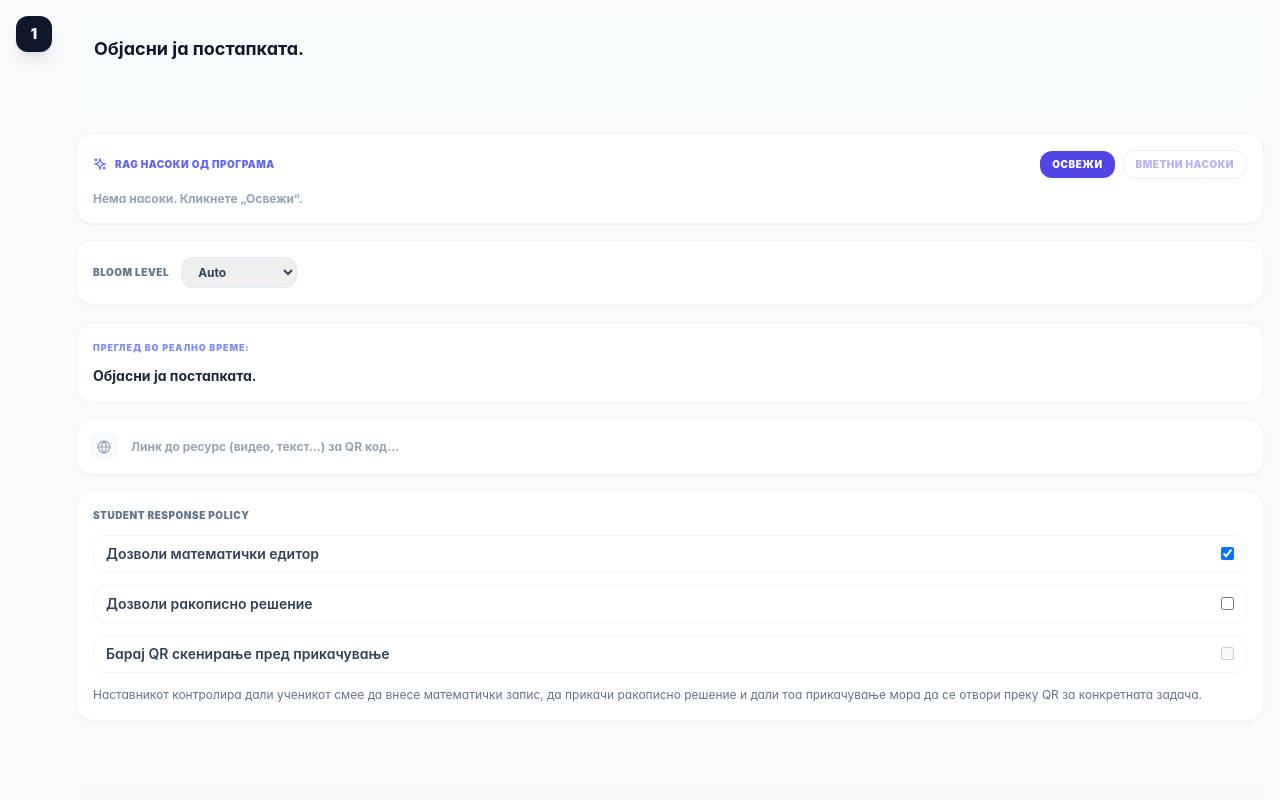
Test case: Question RAG editor flow › allows teacher to configure student response policy
Step 1. Click the checkbox labelled "Дозволи ракописно решение" → {"x": 1228, "y": 604}, box [1221,597,1234,610]
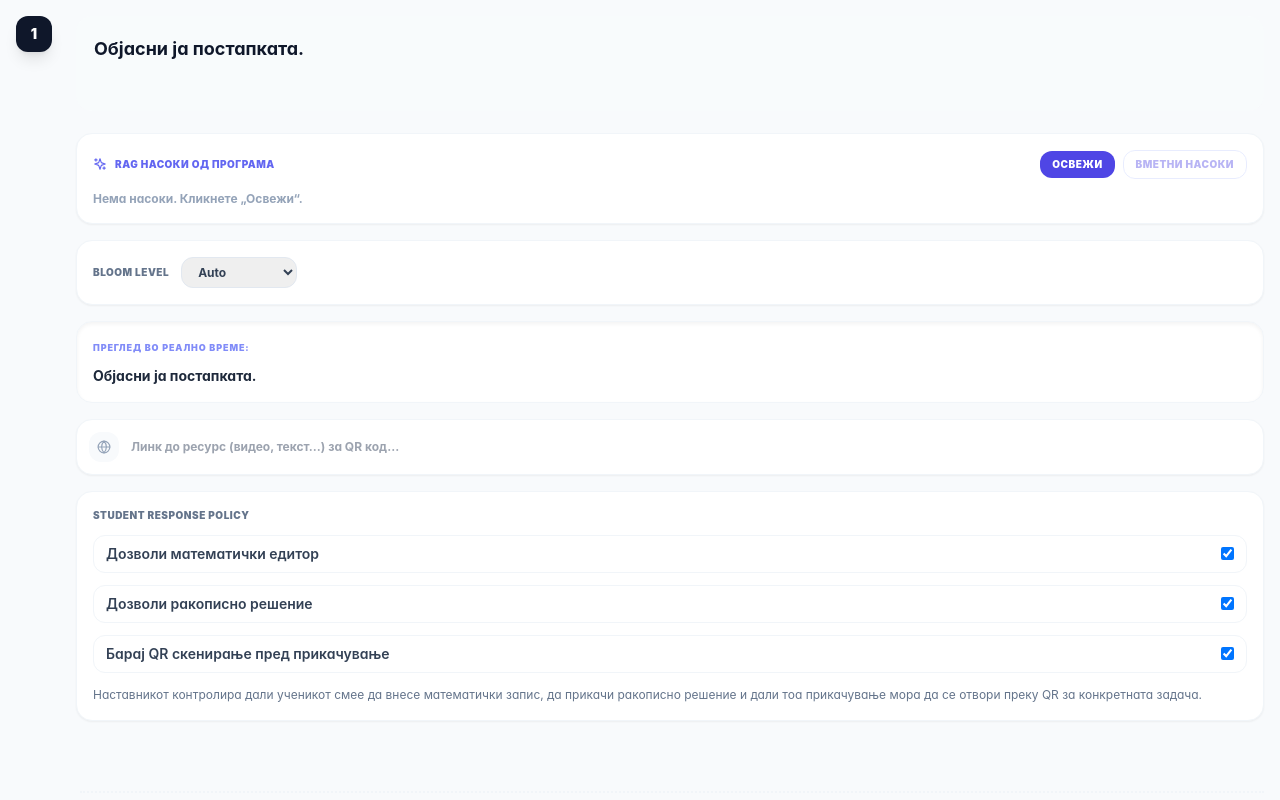
Expected: the text "Наставникот контролира" is shown, [93,686,1202,702]
Now the checkbox labelled "Дозволи ракописно решение" is checked, box [1221,597,1234,610]
Now the checkbox labelled "Барај QR скенирање пред прикачување" is enabled, box [1221,647,1234,660]
